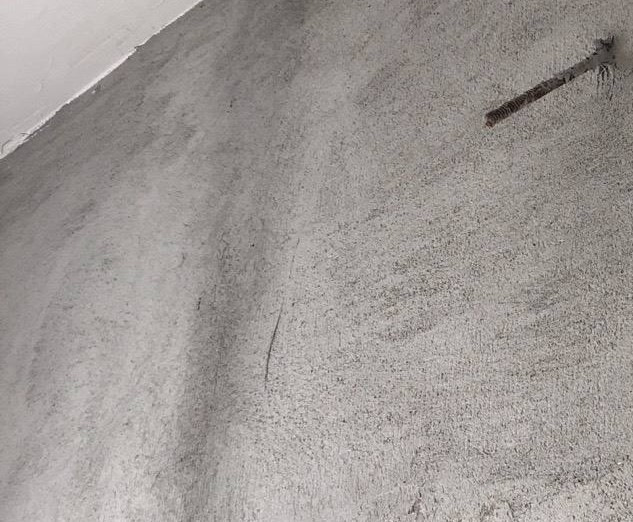Exposed reinforcement: (483, 38, 616, 130)
